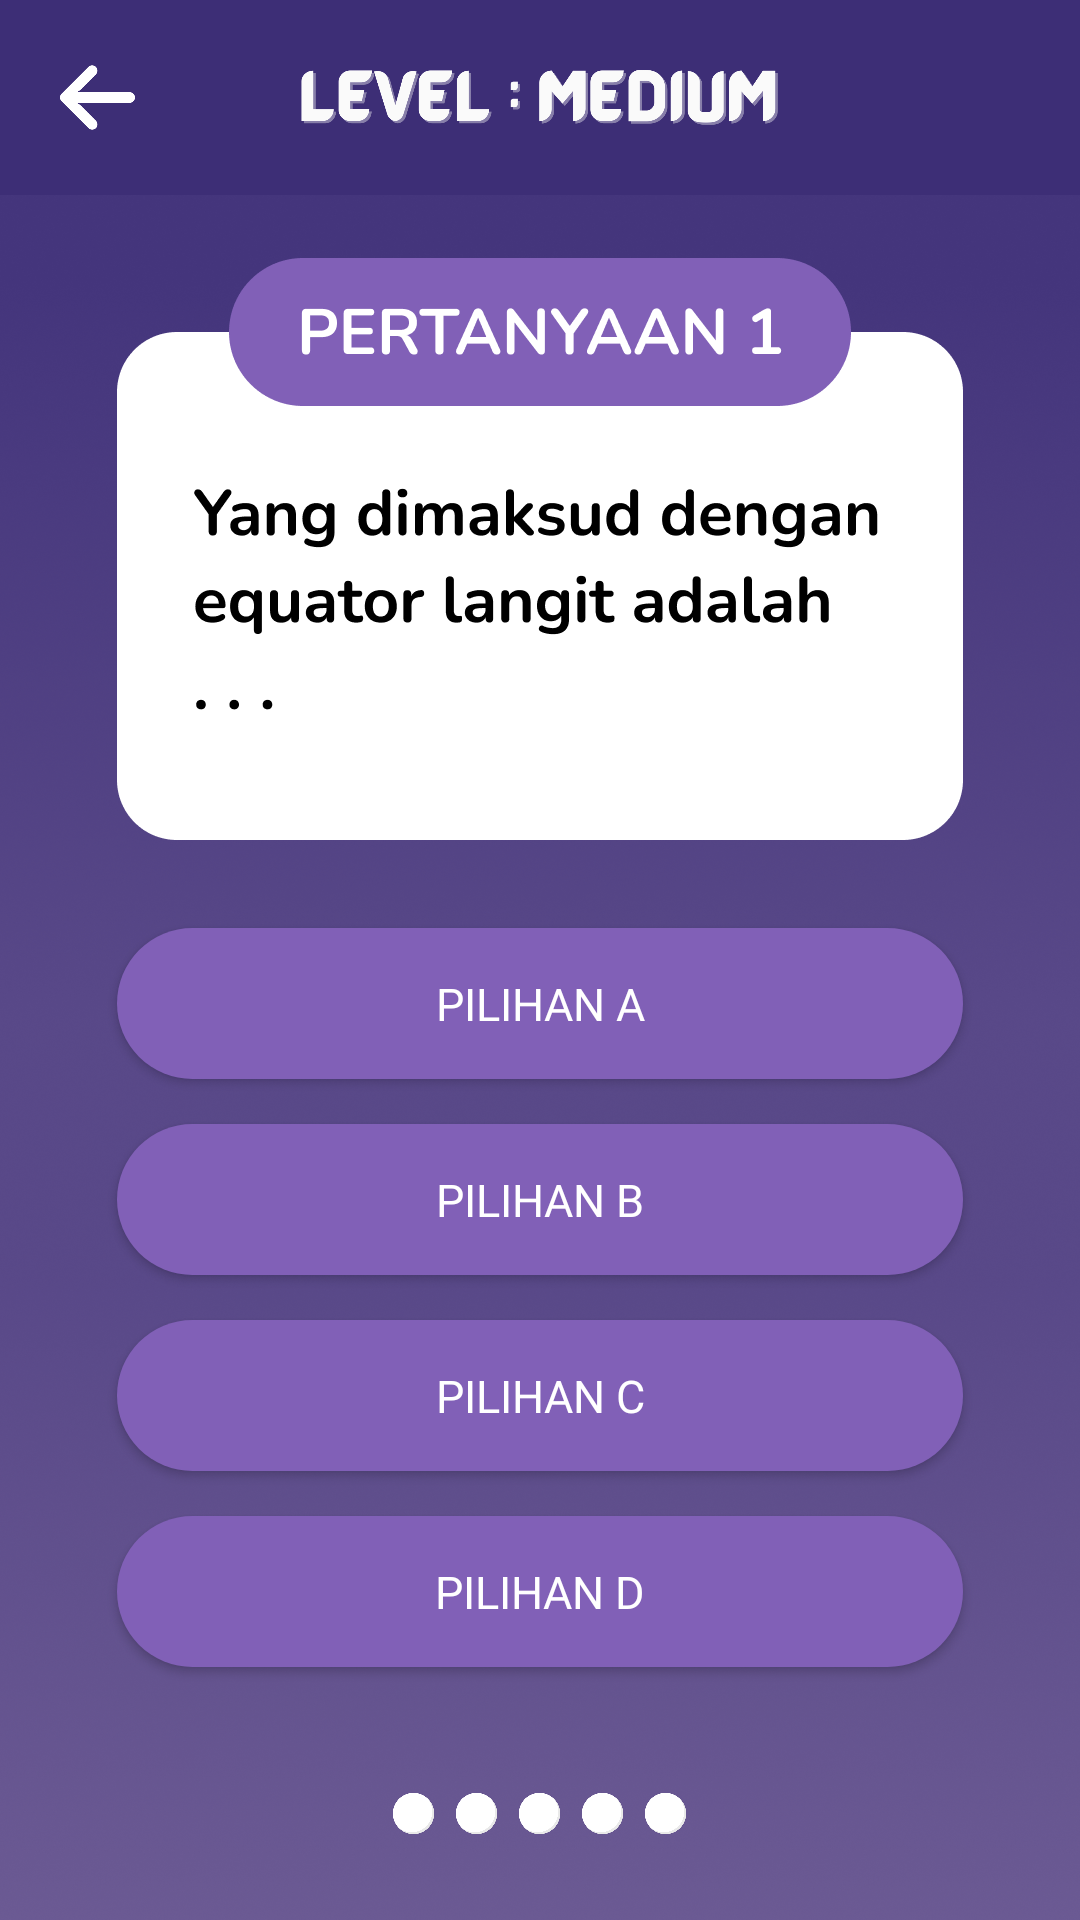

Where to tap for icons on this 1080w x 1920h app screen, as point (x, y):
back: point (97, 97)
